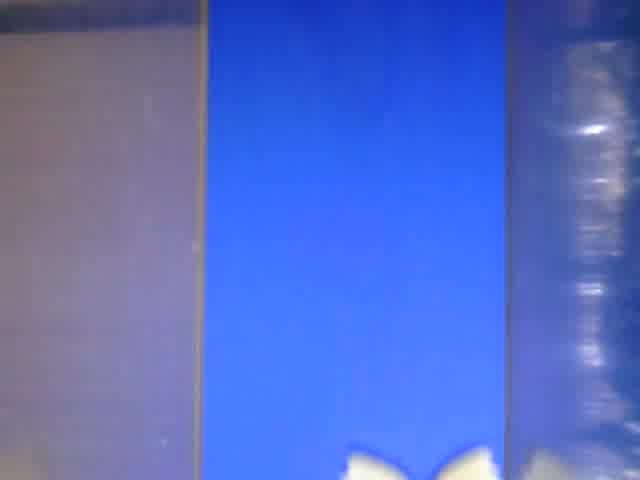farfalle: (342, 443, 502, 480)
